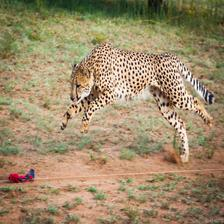Cheetah: (59, 44, 220, 165)
